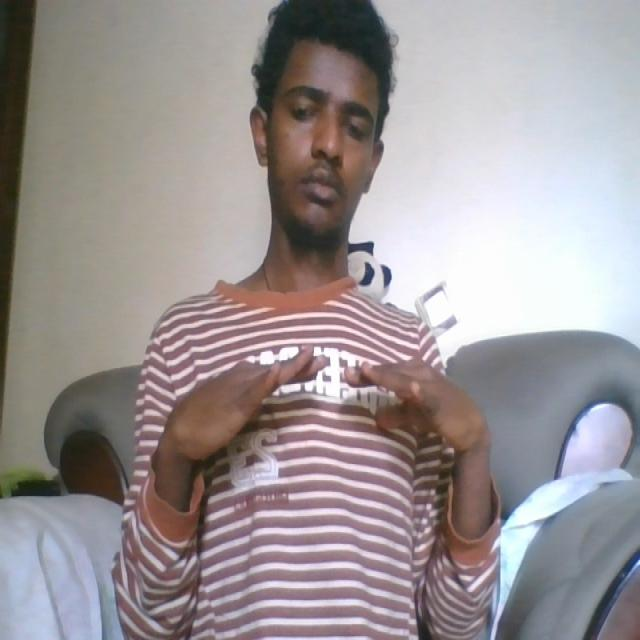meznanat: (174, 344, 476, 446)
